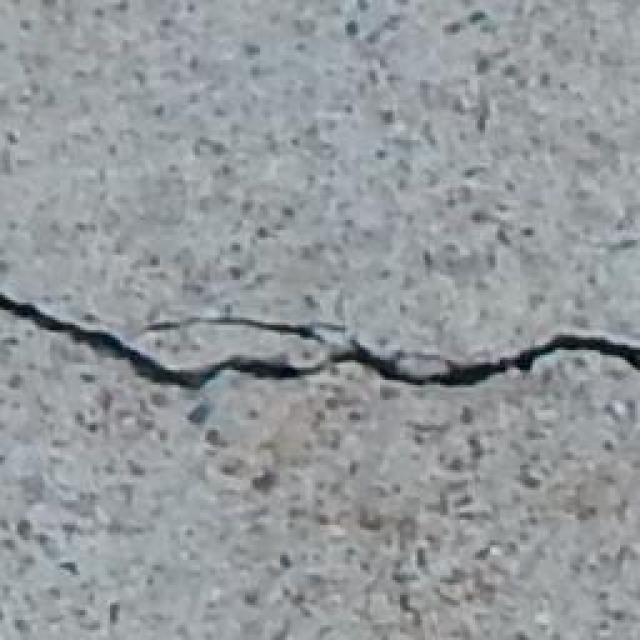concrete-crack: (0, 289, 640, 397), (159, 311, 343, 350)
